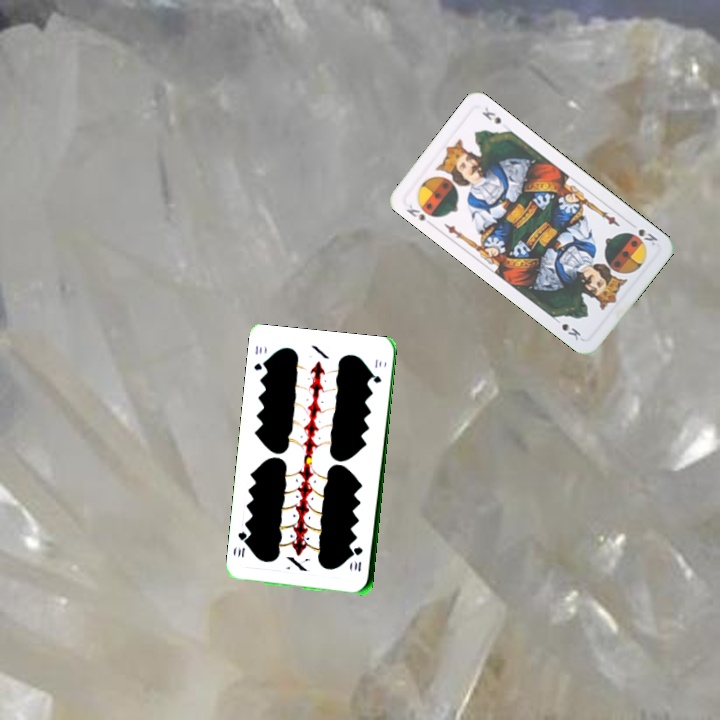G10: (250, 342, 269, 373), (350, 543, 365, 574)
SK: (402, 200, 439, 224), (634, 225, 661, 248)
